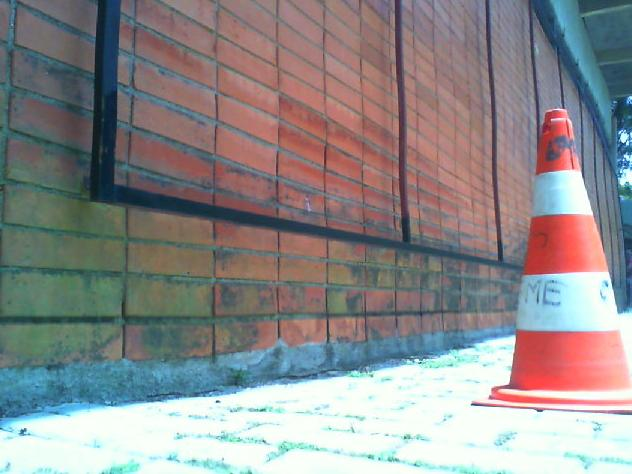0 cone: (469, 108, 632, 412)
